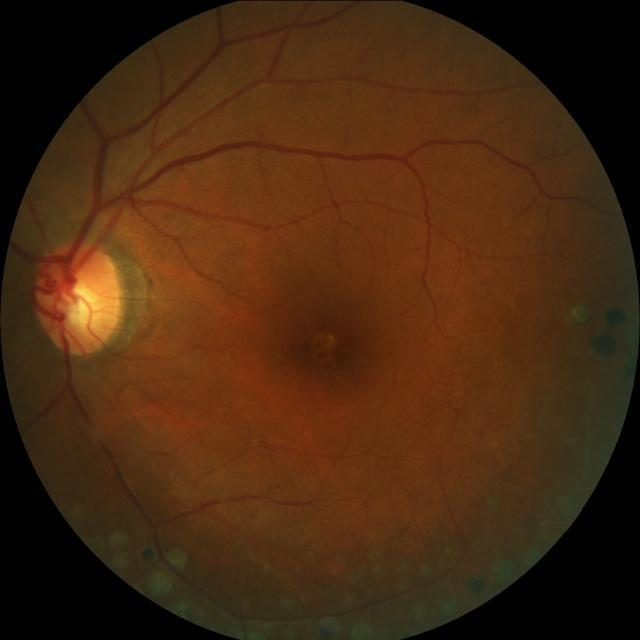OC: (57, 284, 99, 328)
OD: (32, 239, 123, 354)
